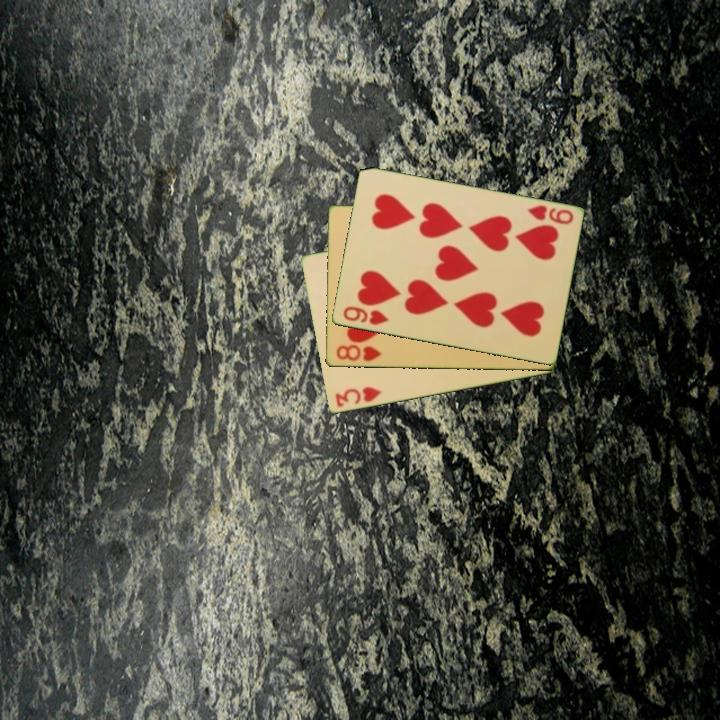3h: (331, 383, 384, 410)
8h: (333, 341, 384, 364)
9h: (524, 202, 576, 228), (339, 303, 391, 328)
